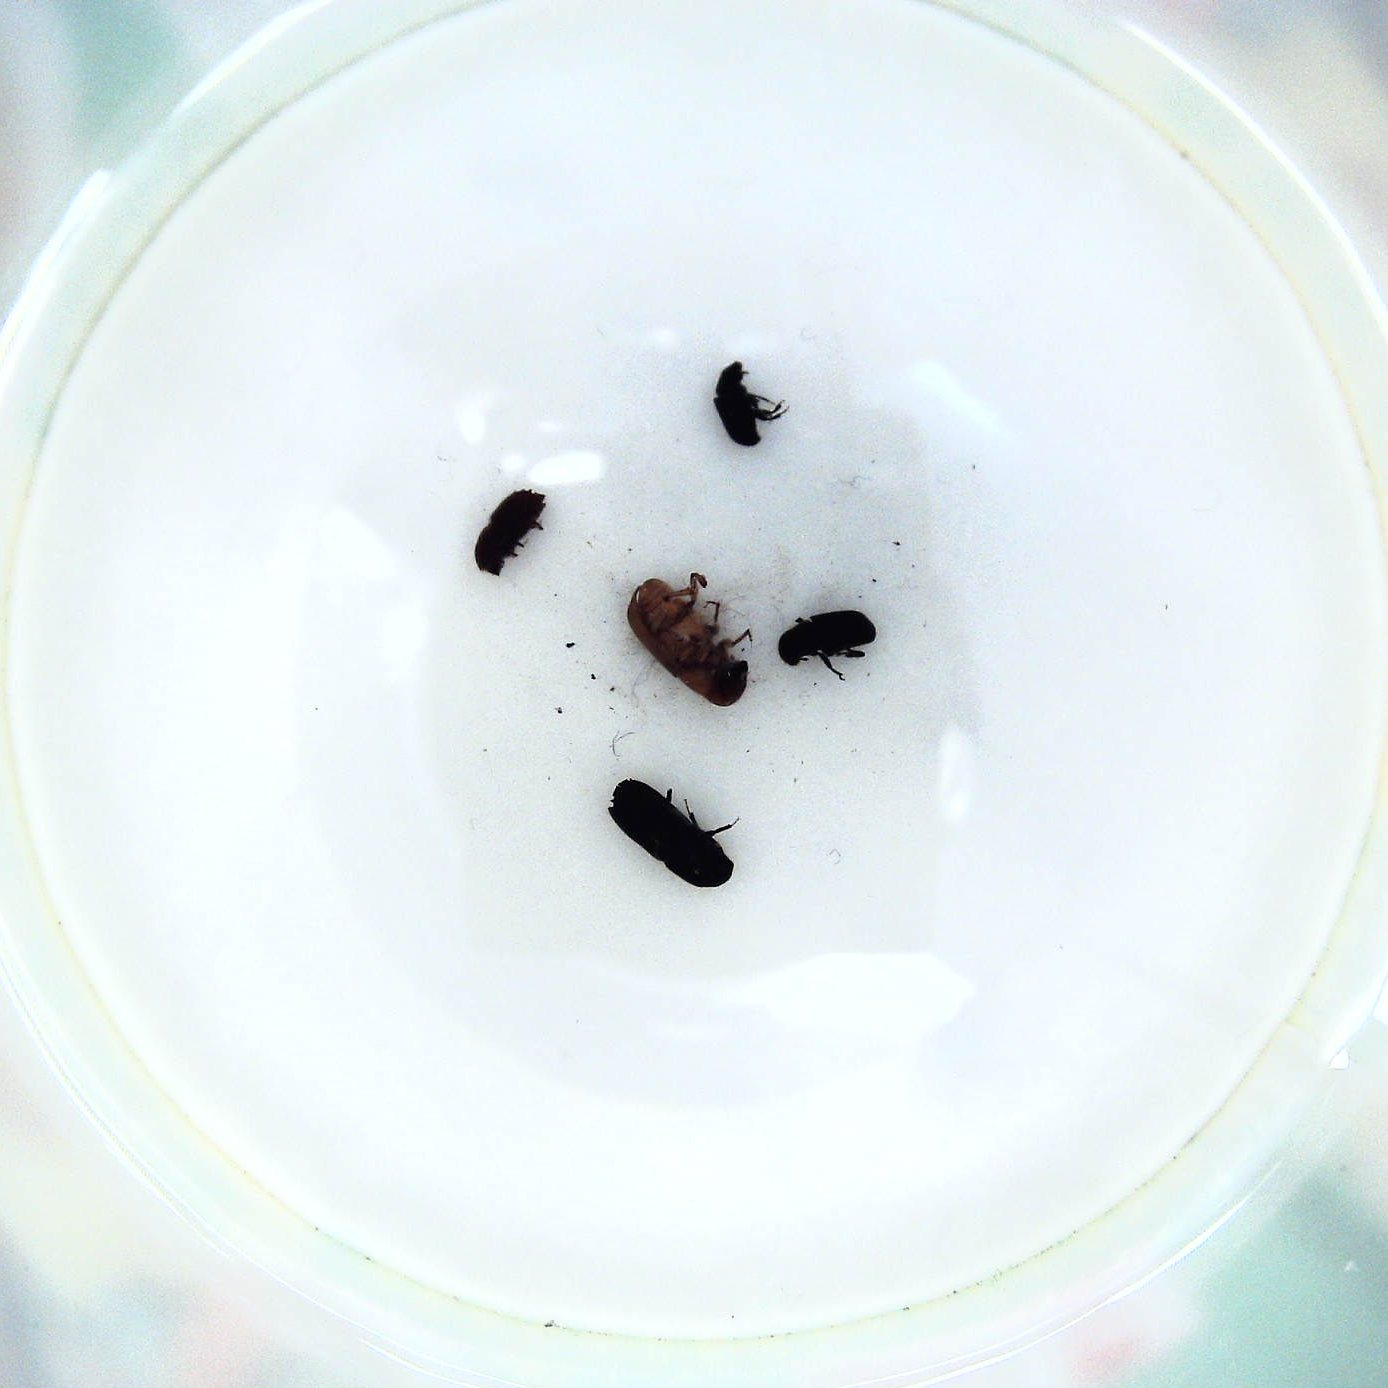Boerner: (608, 773, 741, 895)
Leconte: (627, 569, 761, 712)
armandi: (777, 604, 883, 680)
coleoptera: (711, 356, 794, 451)
linnaeus: (468, 487, 554, 578)
